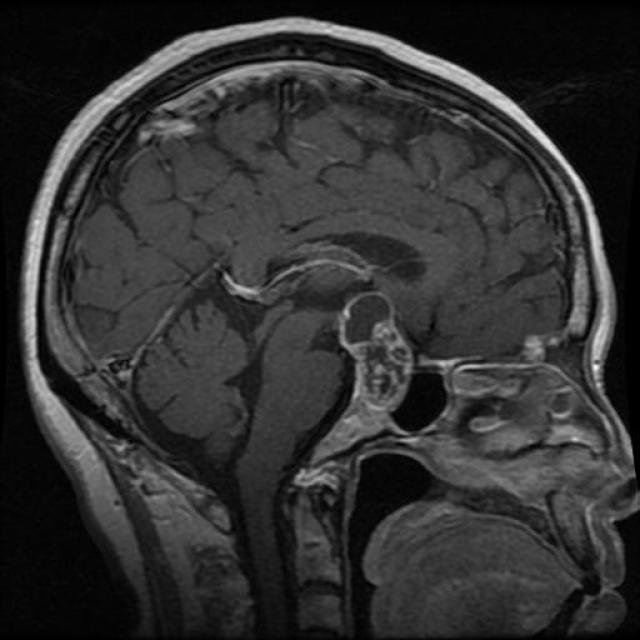pituitary: (338, 292, 420, 414)
